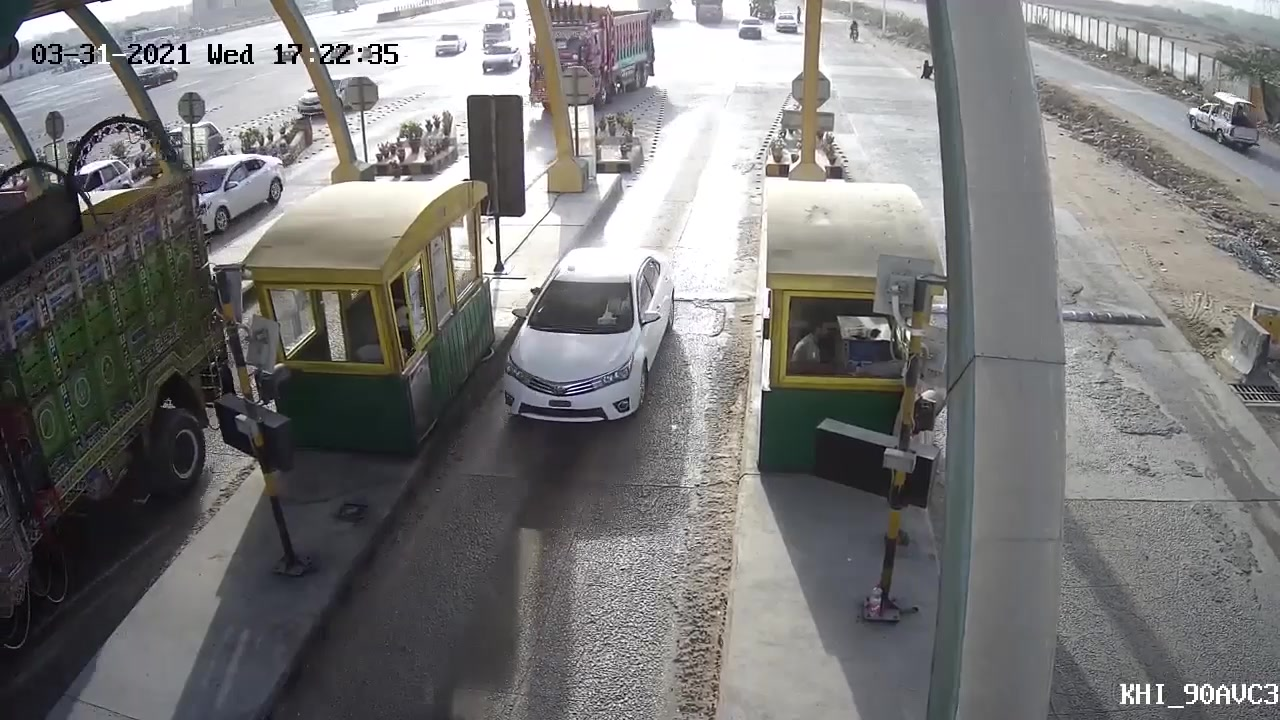F1: (494, 237, 686, 434)
